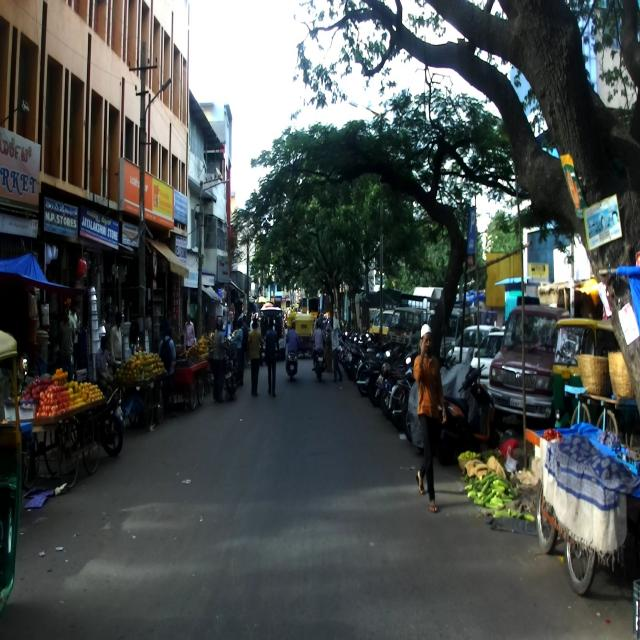autorickshaw: (548, 316, 628, 438)
car: (486, 302, 570, 436)
scooter: (424, 362, 500, 471)
